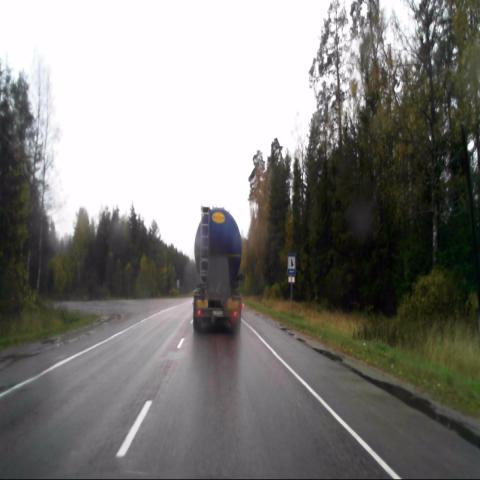7_11: (286, 252, 296, 276)
